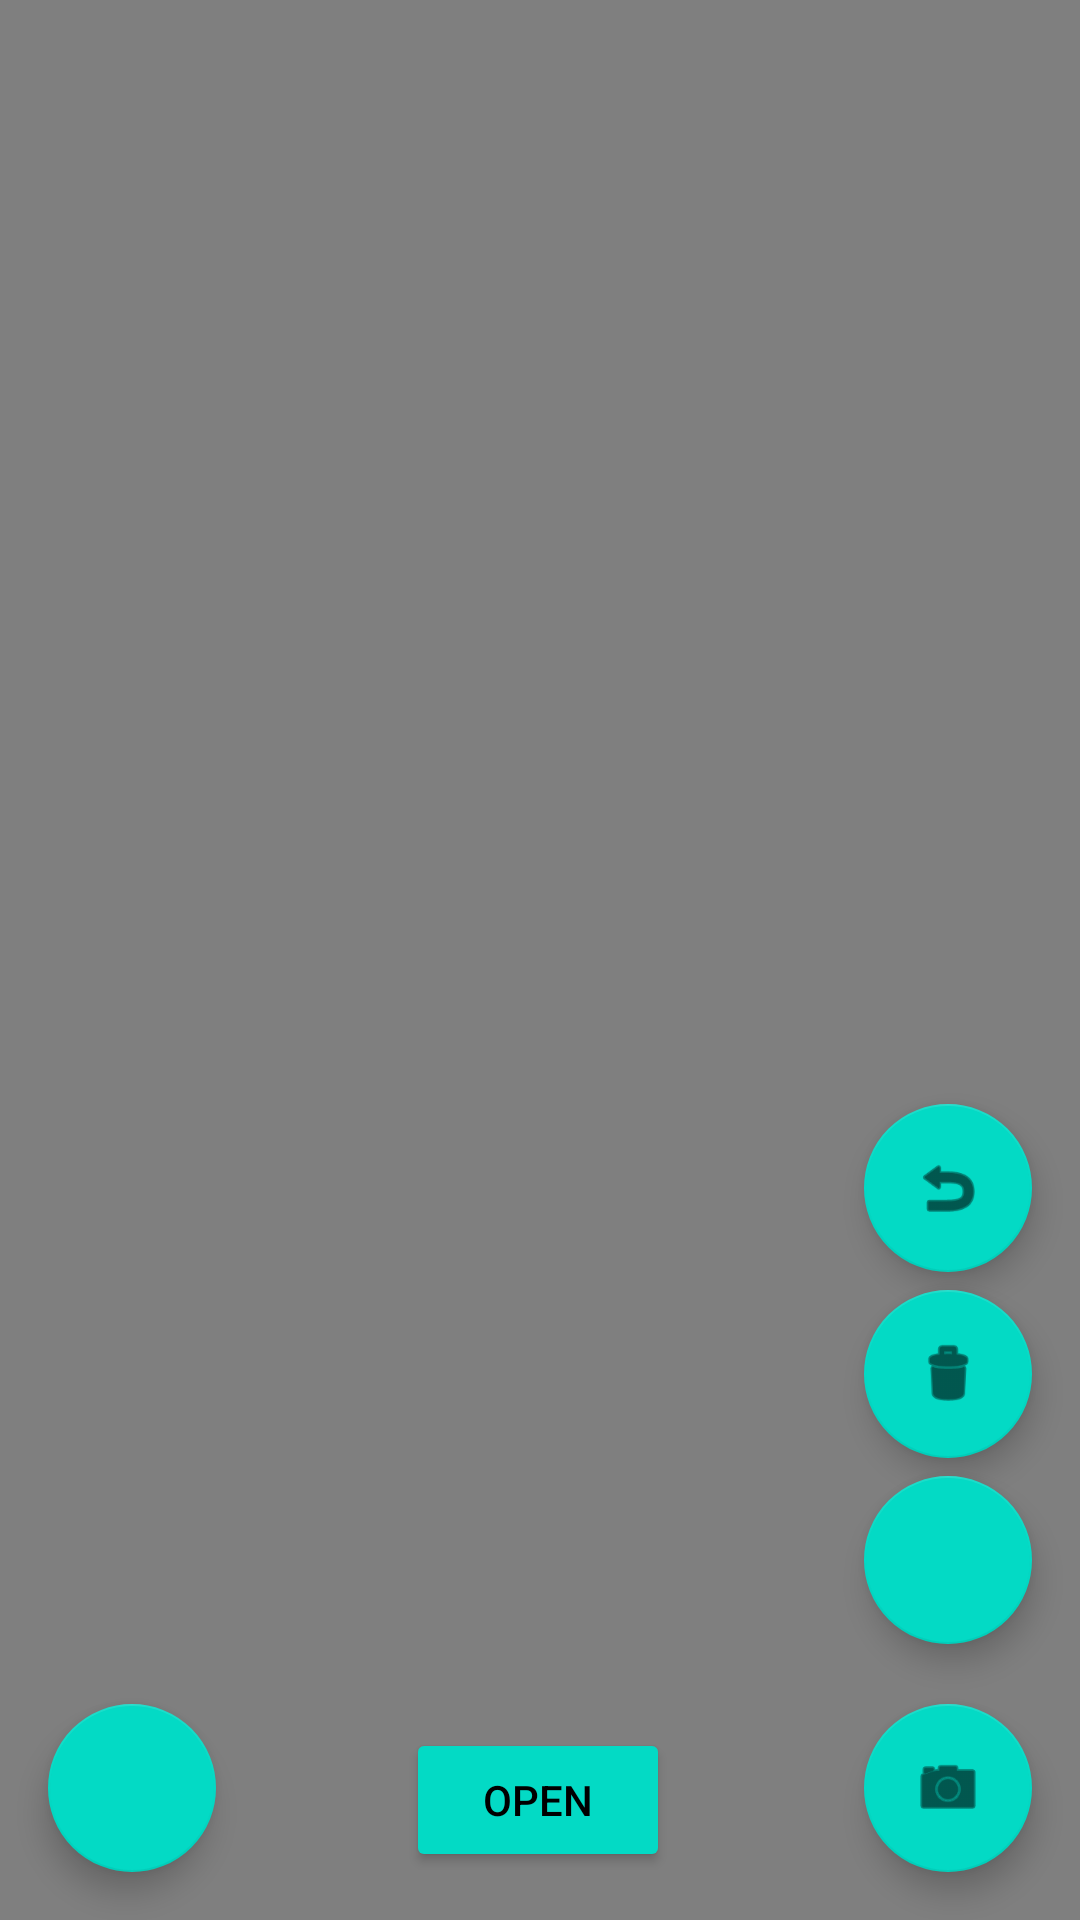

Screen size 1080w x 1920h. Icon name, then its center in pixels as point (x, y):
camera: point (948, 1788)
delete: point (948, 1374)
revert: point (948, 1188)
